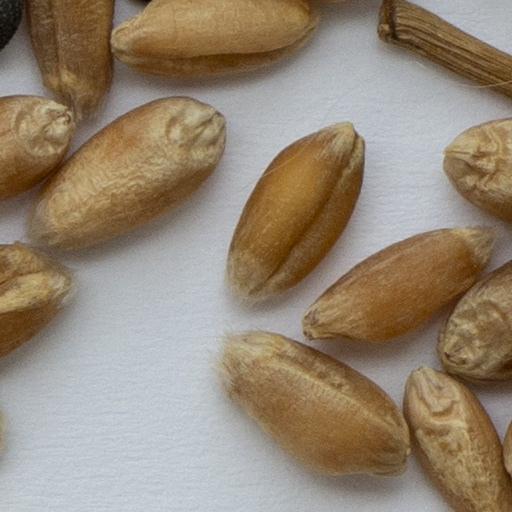Peel-poly: (377, 0, 511, 96)
